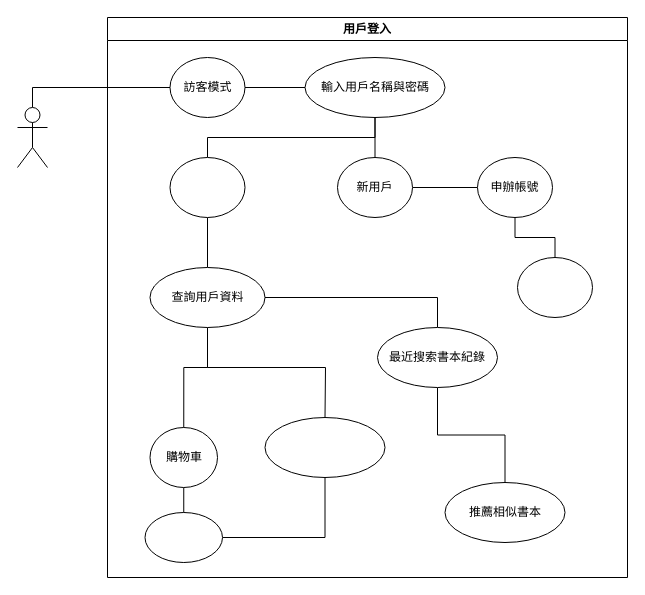
Image size: 645x595. Some labels were removed from this diagram. The centre of each missing label's shape, as x and y in pixels:
"使用指南" belongs at (x=554, y=287).
"提示購買" belongs at (x=183, y=537).
"最近預覽書本紀錄" belongs at (x=324, y=447).
"用戶" belongs at (x=32, y=137).
"舊用戶" belongs at (x=207, y=187).
